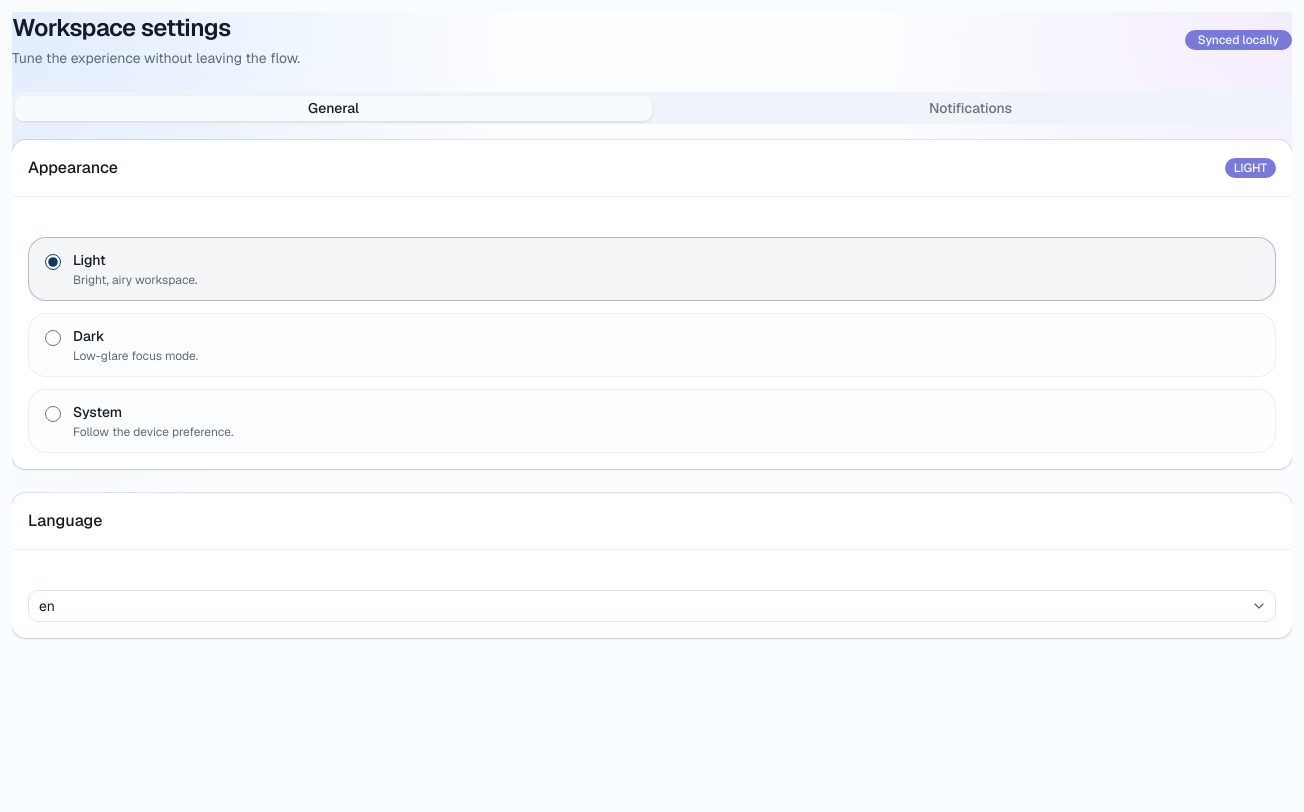
it: SettingsWidget › should change the selected language
The image size is (1304, 812).
Click the dropdown at [47, 606], box [28,590,1276,622]
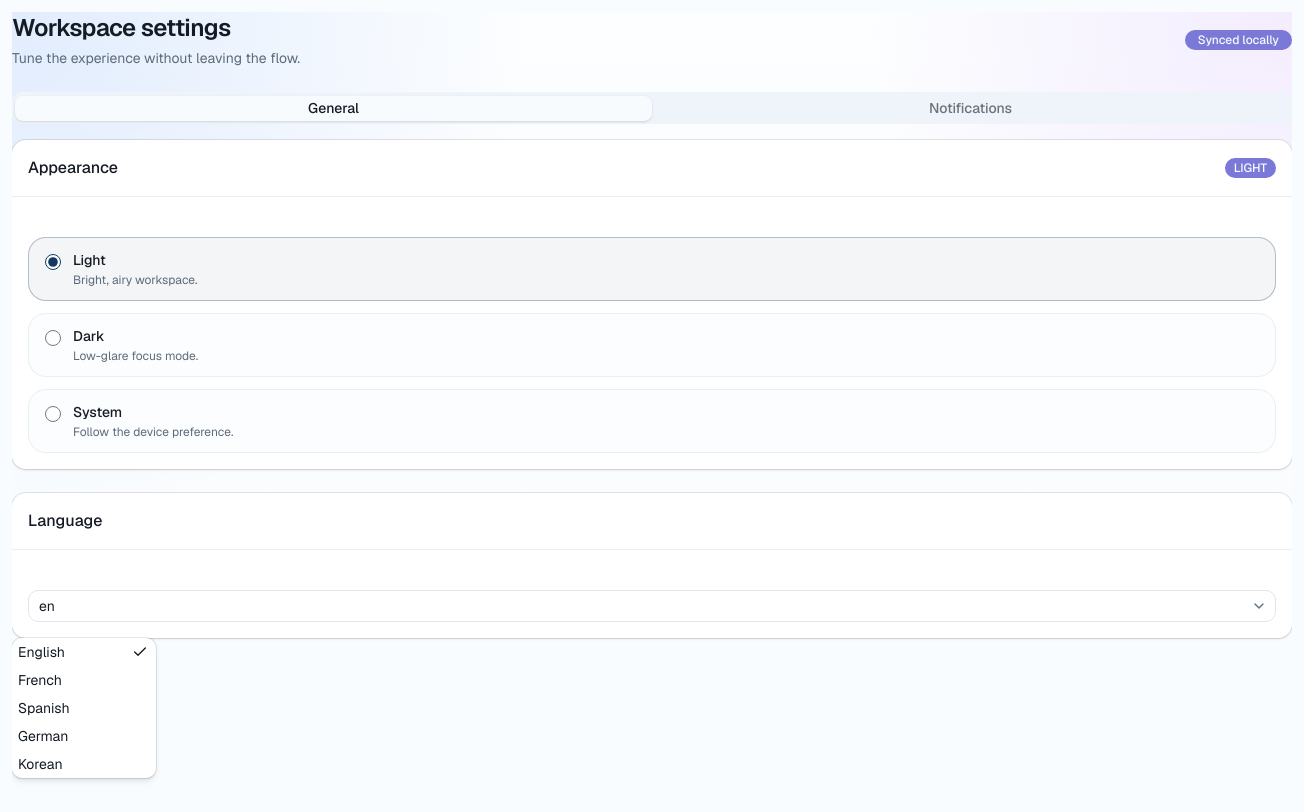
Click the option "Korean" at [40, 764], box [18,755,63,773]
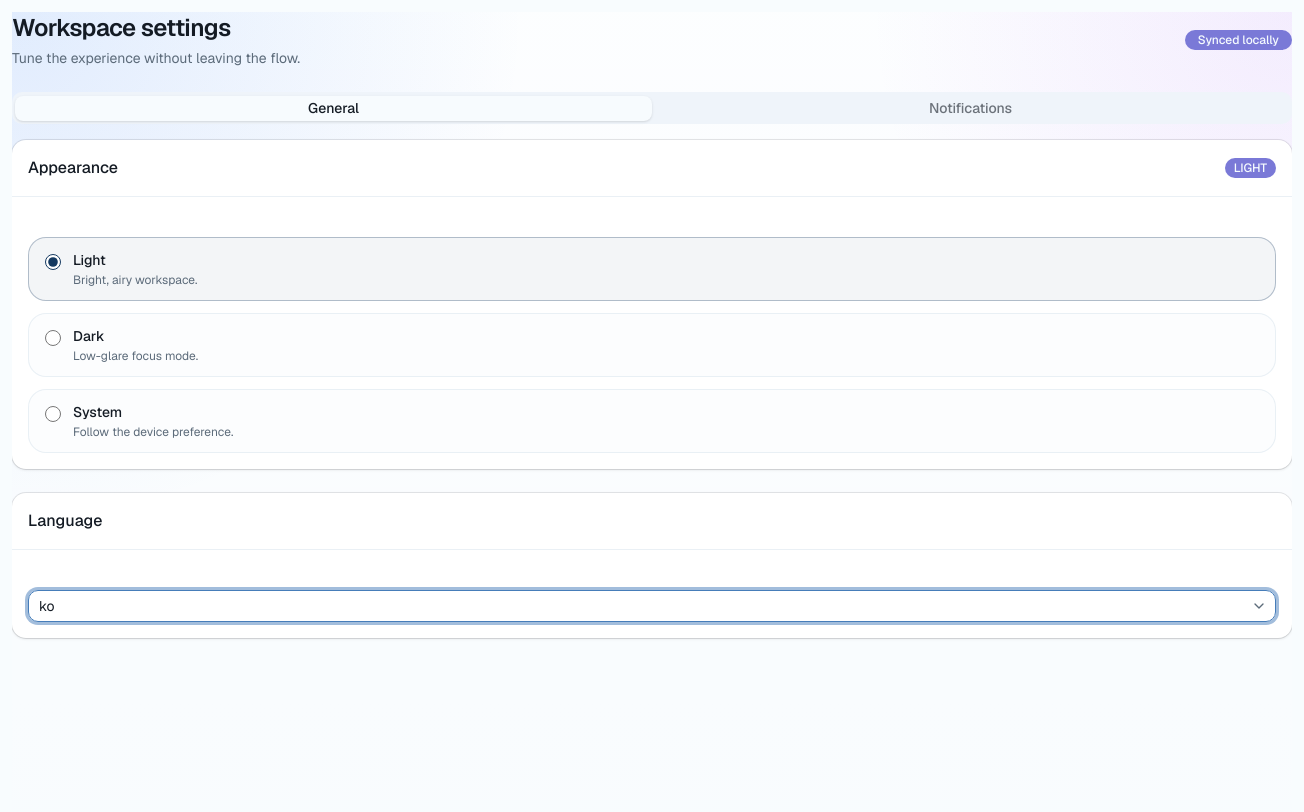
Expected: the dropdown shows "ko", [28,590,1276,622]
